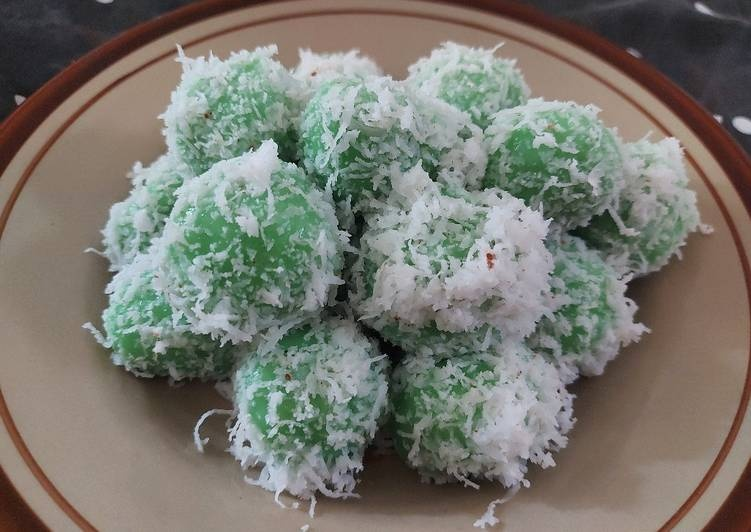klepon: (140, 160, 347, 347), (371, 193, 587, 362), (469, 105, 646, 229)
